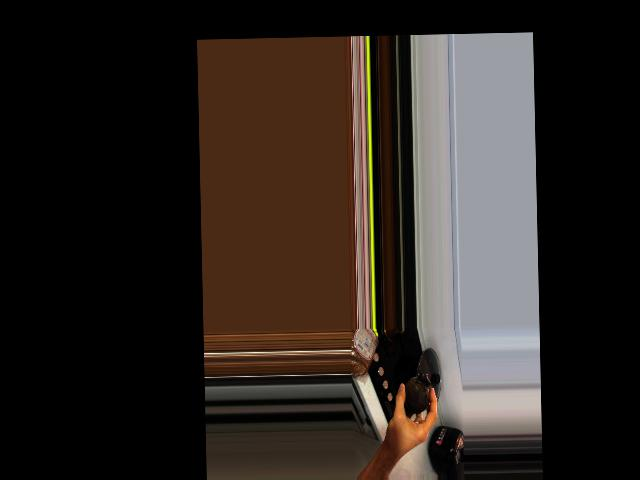beet: (404, 372, 430, 416)
